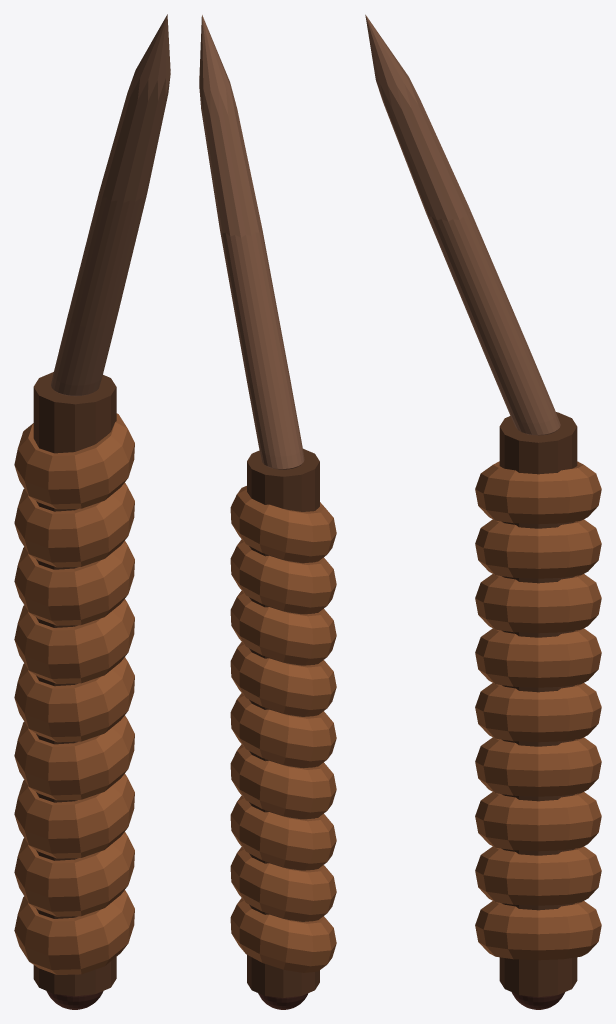
The model's file is Wand 493.glb.
3 views of the same model, side by side, from view 1: azimuth 30°, elevation 25°; view 2: azimuth 210°, elevation 25°; view 3: azimuth 270°, elevation 25° (orthographic). The views are drawn at different scales.
Visible parts, largest first — view 1: GeneratedWand; view 2: GeneratedWand; view 3: GeneratedWand.
Boxes of the visible parts, x1,y1,x2,y2 form: GeneratedWand: (14, 14, 170, 1009); GeneratedWand: (199, 15, 336, 1009); GeneratedWand: (365, 14, 601, 1009).
Size of the model in its own units: 0.0497 by 0.5028 by 0.1085.
